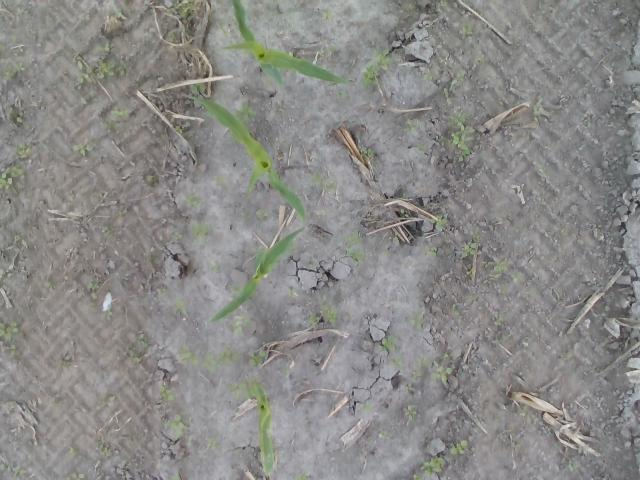Maize: (180, 92, 308, 223), (222, 0, 356, 88), (208, 226, 307, 324), (252, 382, 276, 476)
Weeds: (448, 111, 475, 162), (361, 48, 394, 89), (201, 344, 242, 375), (227, 376, 262, 400), (72, 52, 94, 90), (0, 164, 26, 196), (317, 294, 342, 325), (165, 414, 189, 438), (430, 360, 453, 385), (229, 314, 252, 338), (166, 0, 195, 19), (190, 222, 212, 246), (480, 255, 510, 272), (420, 456, 444, 476), (232, 103, 256, 123), (177, 344, 200, 364), (344, 229, 365, 249), (125, 342, 144, 364), (247, 348, 265, 371), (72, 138, 95, 156), (97, 56, 115, 78), (3, 60, 25, 77), (86, 282, 100, 308), (413, 356, 428, 380), (0, 322, 19, 340), (380, 335, 398, 353), (346, 248, 364, 266), (408, 310, 424, 330), (429, 214, 449, 230), (0, 464, 26, 476), (304, 311, 322, 328), (519, 404, 534, 424), (95, 440, 112, 457), (158, 384, 174, 402), (98, 394, 116, 410), (172, 298, 188, 316), (206, 100, 222, 118), (403, 118, 423, 132), (389, 356, 406, 372), (451, 439, 468, 455), (450, 69, 466, 86), (482, 272, 502, 285), (14, 140, 27, 160), (533, 96, 543, 122), (309, 172, 325, 188), (146, 252, 162, 268), (184, 194, 202, 208), (10, 36, 24, 54), (136, 332, 150, 349), (419, 66, 434, 81), (323, 178, 337, 194), (4, 342, 18, 358), (405, 405, 418, 422), (359, 400, 374, 414), (230, 282, 244, 297), (9, 109, 23, 124), (443, 87, 454, 106), (115, 59, 127, 76), (359, 147, 376, 159), (462, 243, 476, 257), (15, 235, 30, 248), (230, 134, 246, 146), (406, 2, 418, 18), (510, 270, 524, 283), (284, 239, 298, 252), (472, 54, 485, 68), (81, 94, 99, 104), (492, 333, 508, 344), (190, 82, 207, 92), (109, 108, 129, 116), (294, 472, 314, 480), (256, 208, 268, 221), (251, 244, 264, 256), (102, 308, 114, 321), (322, 9, 335, 21), (336, 88, 348, 100), (440, 352, 456, 361), (56, 360, 72, 369), (462, 22, 474, 34), (565, 459, 576, 472), (437, 134, 448, 147), (426, 246, 440, 256), (207, 262, 221, 272), (96, 42, 110, 52), (378, 427, 389, 439), (174, 124, 185, 136), (286, 286, 297, 298), (469, 230, 482, 240), (450, 303, 460, 316), (102, 226, 115, 236), (104, 118, 117, 128), (69, 446, 80, 457), (492, 316, 504, 326), (240, 212, 252, 222), (208, 438, 218, 450), (71, 472, 86, 480), (218, 24, 228, 36), (121, 435, 133, 445), (510, 440, 520, 452), (466, 267, 476, 278), (172, 232, 184, 241), (388, 232, 398, 242), (118, 209, 128, 219), (560, 228, 570, 238), (400, 208, 410, 218), (405, 384, 414, 395), (212, 175, 226, 182), (416, 144, 426, 153), (538, 164, 546, 175), (146, 174, 155, 183), (242, 47, 250, 57), (466, 294, 476, 302), (328, 45, 338, 53), (586, 115, 592, 128), (168, 33, 175, 44), (412, 474, 424, 480), (160, 287, 168, 296), (524, 288, 533, 296), (496, 97, 504, 106), (43, 281, 53, 288), (308, 260, 316, 268), (115, 10, 122, 18), (171, 475, 181, 480), (0, 268, 5, 278), (439, 0, 447, 6), (94, 192, 102, 198), (382, 251, 388, 258), (0, 44, 5, 50)
